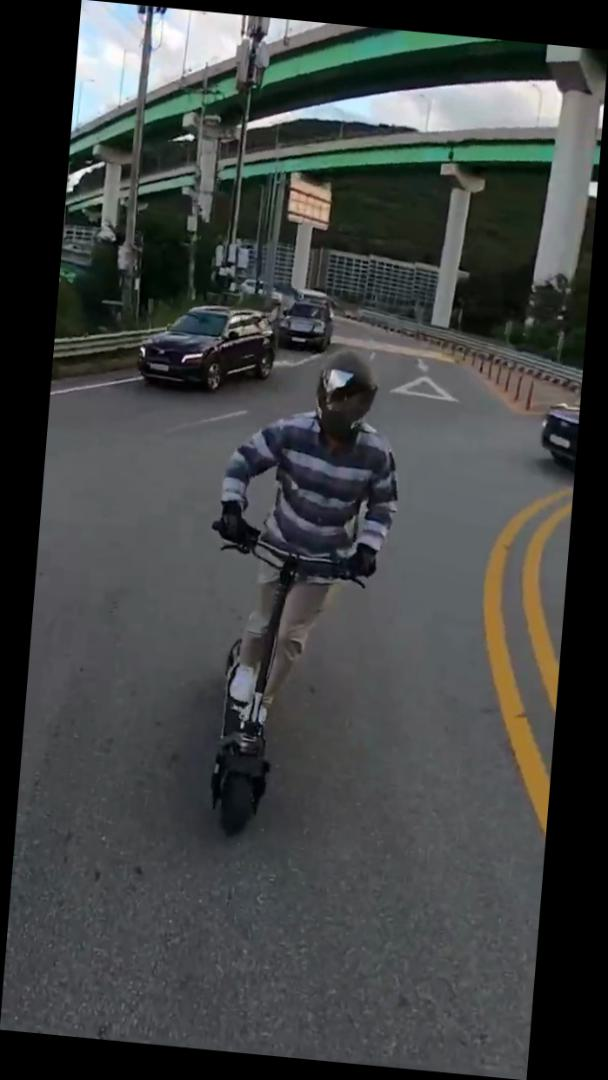helmet: (183, 331, 413, 854)
